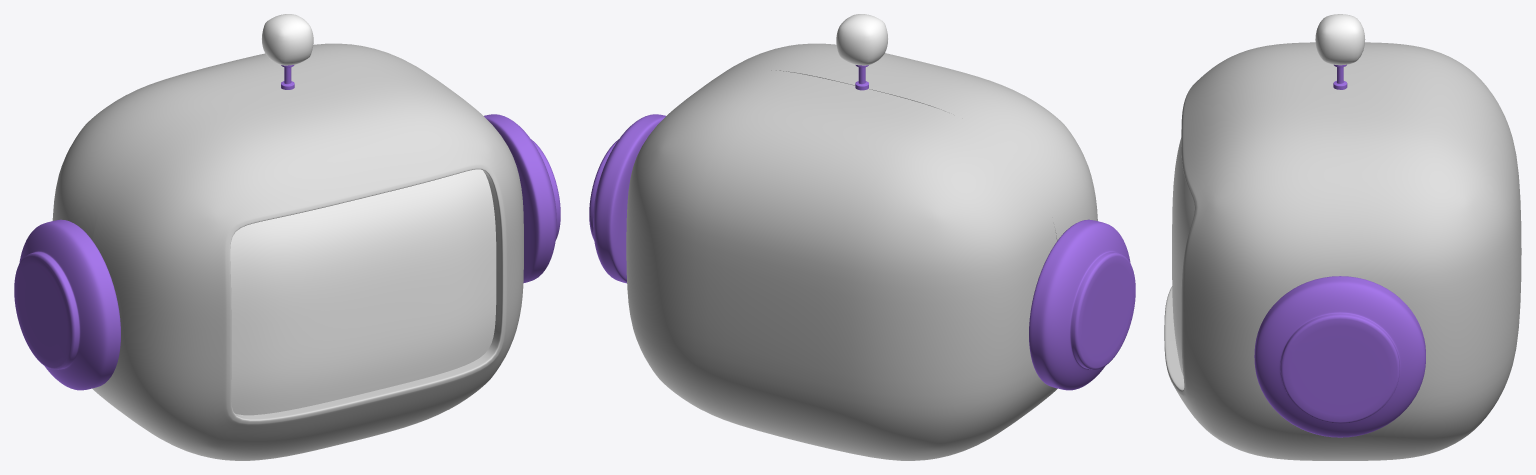
File: robot-head.glb
The picture shows the model from 3 angles, left to right: view 1: azimuth 30°, elevation 25°; view 2: azimuth 150°, elevation 25°; view 3: azimuth 270°, elevation 25°; orthographic projection.
Parts seen in each view (by area): view 1: Cube, Cube.001, Cylinder.001, Cylinder.002, Cube.002; view 2: Cube, Cylinder.001, Cylinder.002, Cube.002; view 3: Cube, Cylinder.002, Cube.001, Cube.002.
Boxes of the visible parts, <box> form: Cube: <box>52,43,523,460</box>; Cube.001: <box>230,169,496,415</box>; Cylinder.001: <box>14,219,120,390</box>; Cylinder.002: <box>484,114,560,283</box>; Cube.002: <box>262,14,313,65</box>; Cube: <box>626,43,1097,460</box>; Cylinder.001: <box>1029,219,1135,390</box>; Cylinder.002: <box>589,114,665,283</box>; Cube.002: <box>836,14,887,65</box>; Cube: <box>1164,42,1521,460</box>; Cylinder.002: <box>1254,276,1425,437</box>; Cube.001: <box>1172,138,1194,375</box>; Cube.002: <box>1315,14,1365,65</box>.
Bounding box in the file's own units: 3.1 × 2.42 × 1.96.
